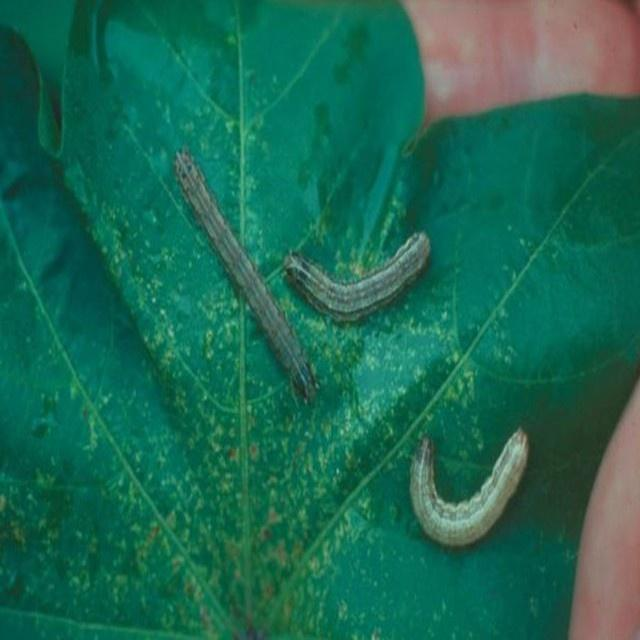gusano_cogollero: (175, 153, 318, 400), (282, 235, 434, 330), (405, 430, 527, 545)
